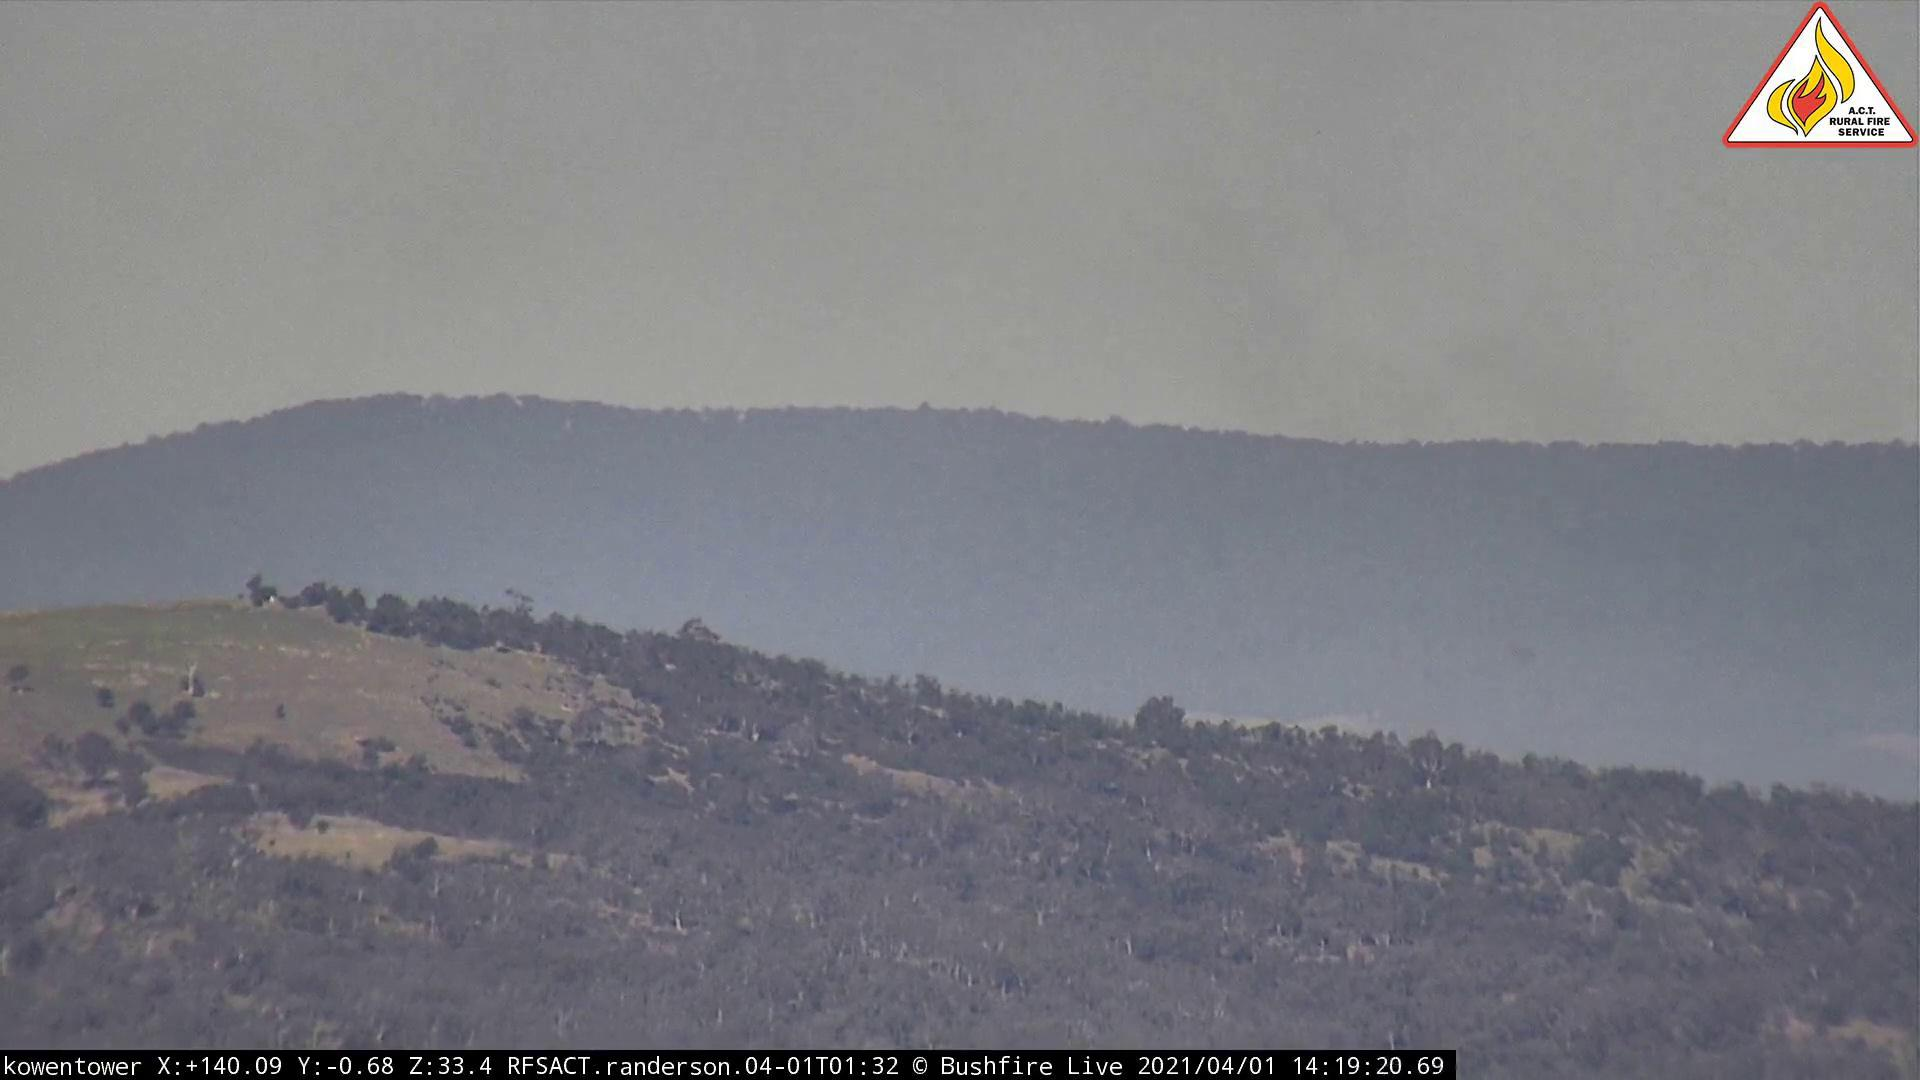Smoke: (1145, 171, 1684, 599)
